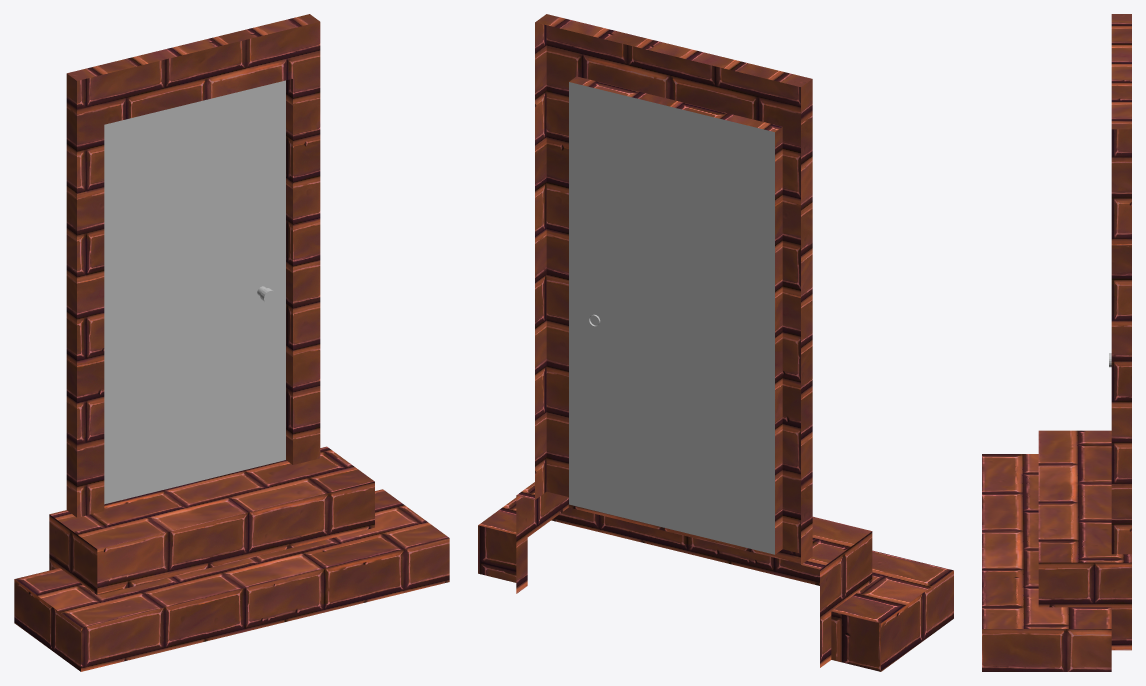
File: SM_Door.fbx
The picture shows the model from 3 angles, left to right: view 1: azimuth 30°, elevation 25°; view 2: azimuth 150°, elevation 25°; view 3: azimuth 270°, elevation 25°; orthographic projection. The views are drawn at different scales.
Parts seen in each view (by area): view 1: pCube3; view 2: pCube3; view 3: pCube3.
Boxes of the visible parts, box(x1,y1,x2,y2) form: pCube3: box(14, 14, 449, 671); pCube3: box(478, 14, 953, 671); pCube3: box(982, 14, 1131, 671).
Bounding box in the file's own units: 163 × 222 × 58.96.
